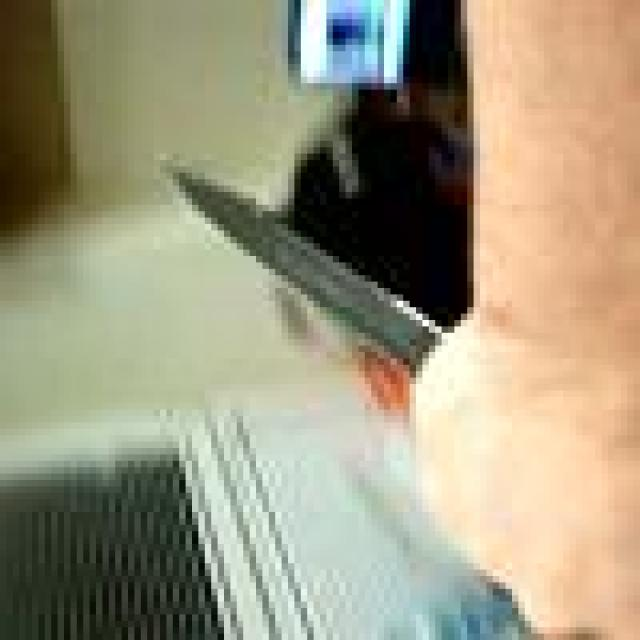knife: (169, 168, 432, 367)
